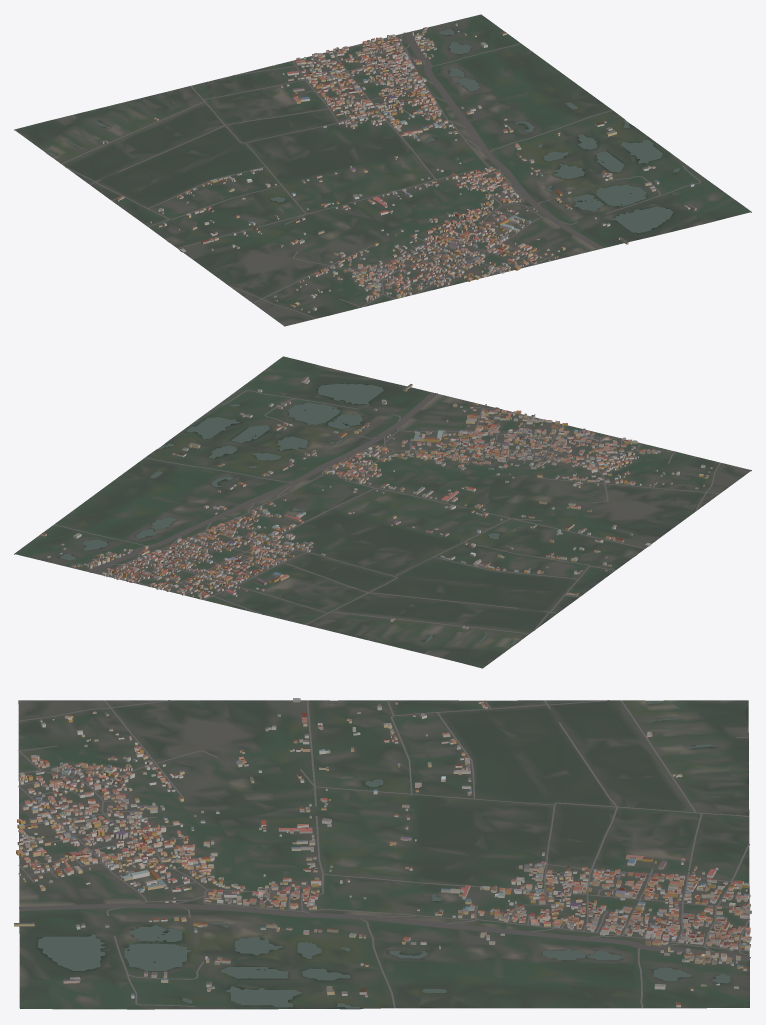
The picture shows the model from 3 angles, top to bottom: view 1: azimuth 30°, elevation 25°; view 2: azimuth 150°, elevation 25°; view 3: azimuth 270°, elevation 25°; orthographic projection. The views are drawn at different scales.
Parts seen in each view (by area): view 1: ground, buildings, roads, water; view 2: ground, buildings, roads, water; view 3: ground, buildings, roads, water.
Boxes of the visible parts, x1,y1,x2,y2 form: ground: [14, 14, 751, 326]; buildings: [101, 23, 696, 312]; roads: [61, 32, 700, 318]; water: [48, 29, 679, 241]; ground: [14, 356, 751, 668]; buildings: [41, 376, 712, 629]; roads: [54, 390, 720, 654]; water: [60, 383, 634, 644]; ground: [18, 700, 749, 1009]; buildings: [14, 698, 751, 1007]; roads: [18, 700, 750, 1008]; water: [38, 701, 740, 1008].
Size of the model in its own units: 1407 by 16.5 by 1417.
